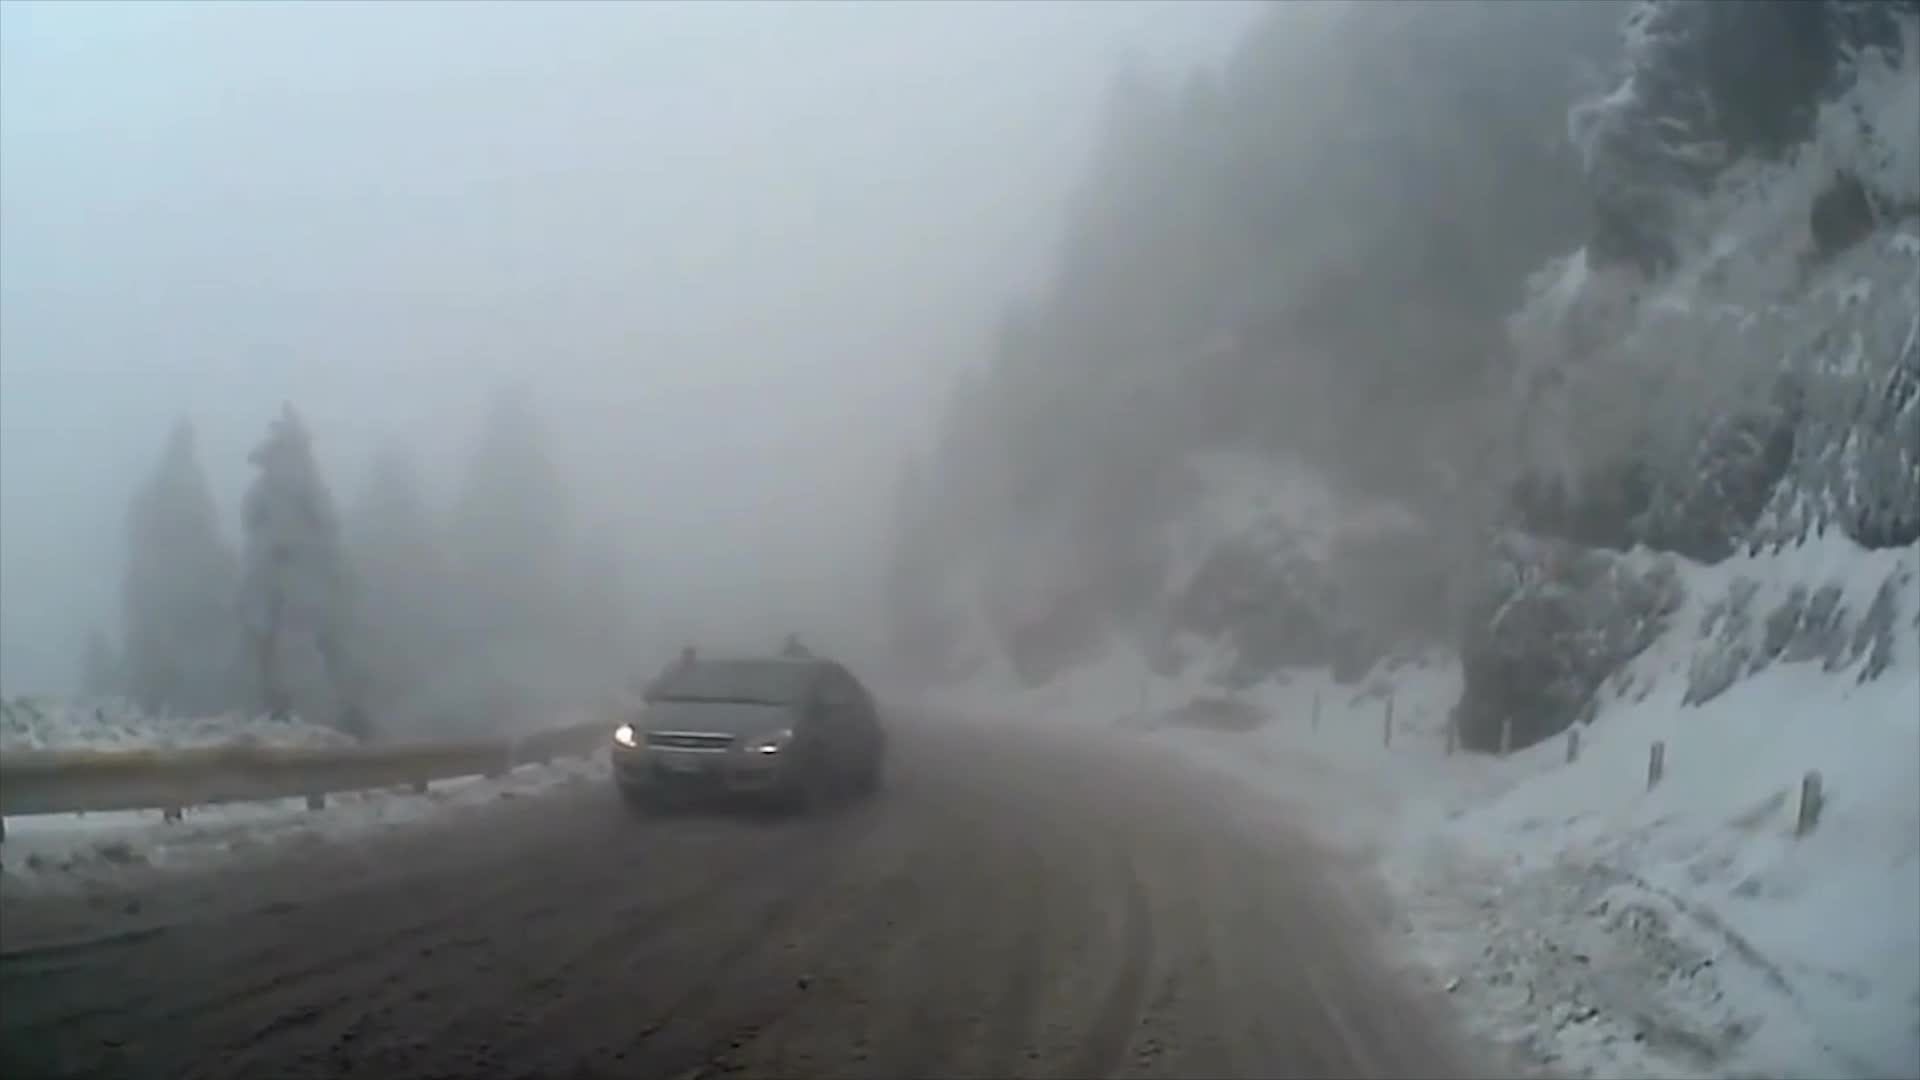vehicle: (611, 651, 884, 820)
